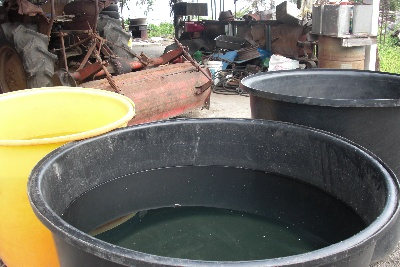bowl: (217, 9, 235, 19)
box: (214, 32, 246, 50)
bucket: (25, 115, 400, 267), (1, 86, 135, 267), (322, 3, 352, 37), (276, 1, 304, 26)
